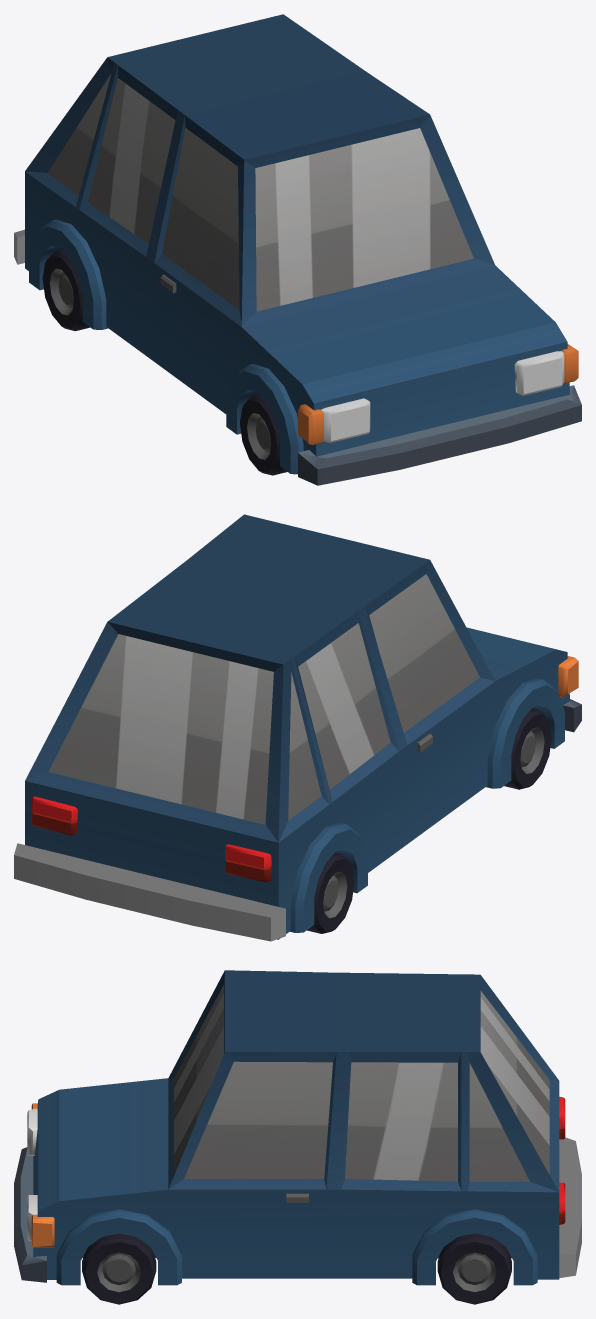
The model's file is Car_1_14.fbx.
3 views of the same model, one above another, from view 1: azimuth 30°, elevation 25°; view 2: azimuth 150°, elevation 25°; view 3: azimuth 270°, elevation 25° (orthographic). The views are drawn at different scales.
Parts seen in each view (by area): view 1: Car_1_14, Wheel_Br, Wheel_Fr; view 2: Car_1_14, Wheel_Fr, Wheel_Br; view 3: Car_1_14, Wheel_Fl, Wheel_Bl.
Boxes of the visible parts, x1,y1,x2,y2 form: Car_1_14: [14, 14, 581, 485]; Wheel_Br: [42, 249, 89, 331]; Wheel_Fr: [240, 394, 287, 475]; Car_1_14: [14, 514, 581, 941]; Wheel_Fr: [504, 708, 551, 789]; Wheel_Br: [307, 852, 354, 933]; Car_1_14: [14, 970, 581, 1285]; Wheel_Fl: [82, 1233, 156, 1304]; Wheel_Bl: [437, 1233, 511, 1304].
Bounding box in the file's own units: 1.05 × 0.9433 × 2.07.
